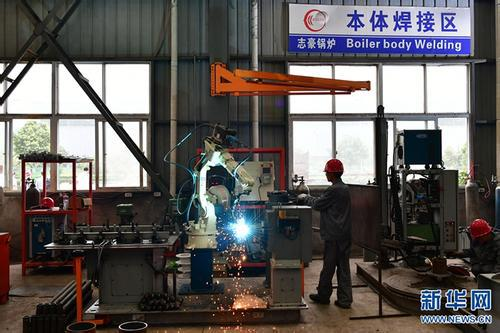helmet: (468, 215, 496, 251), (322, 156, 347, 186)
